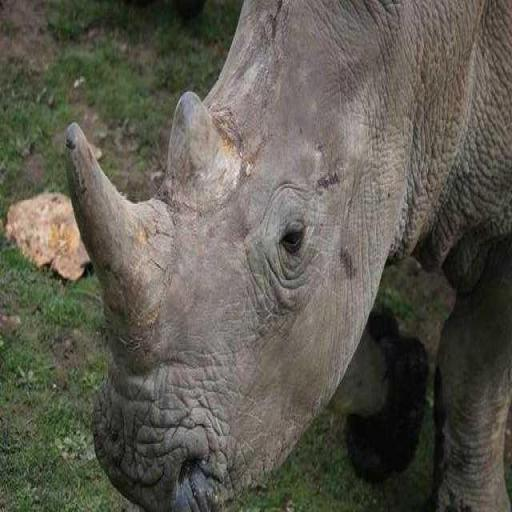Rhino: (62, 0, 510, 510)
